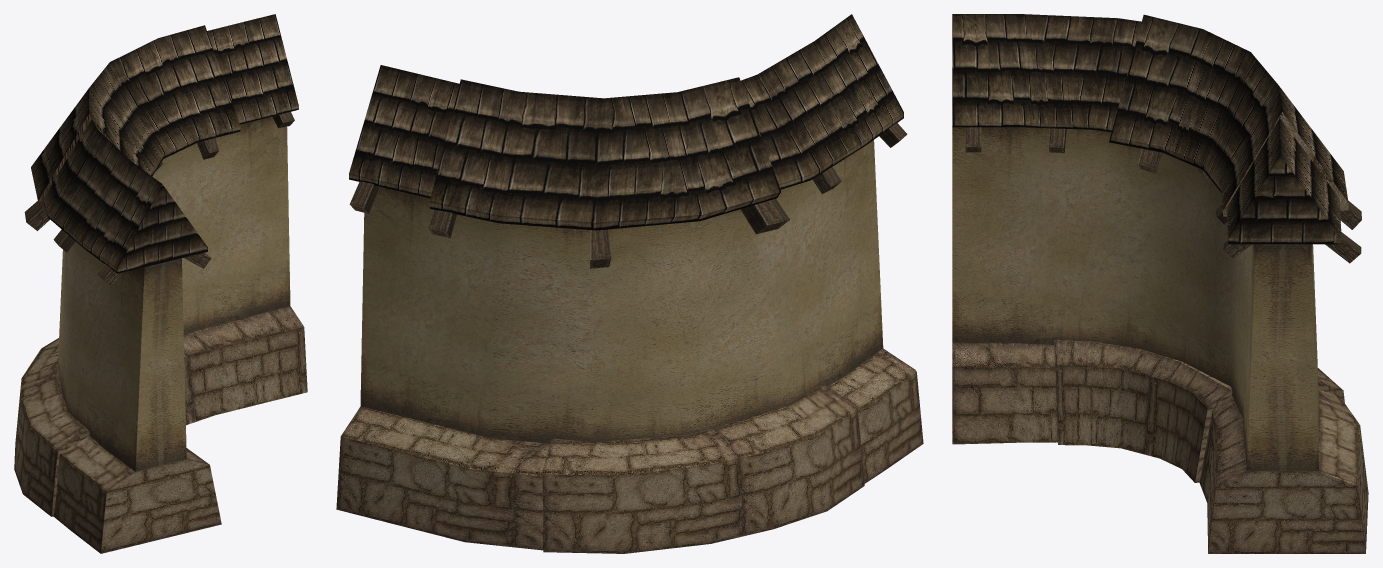
File: Wall_04.fbx
The picture shows the model from 3 angles, left to right: view 1: azimuth 30°, elevation 25°; view 2: azimuth 150°, elevation 25°; view 3: azimuth 270°, elevation 25°; orthographic projection. The views are drawn at different scales.
Visible parts, largest first — view 1: Wall_04; view 2: Wall_04; view 3: Wall_04.
Boxes of the visible parts, bbox=[...] form: Wall_04: bbox=[14, 14, 307, 553]; Wall_04: bbox=[336, 14, 923, 553]; Wall_04: bbox=[952, 14, 1368, 553].
Bounding box in the file's own units: 7.32 × 7.84 × 7.32.
